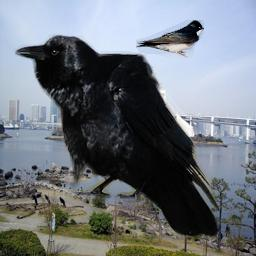Crow: (14, 34, 224, 241)
Swallow: (136, 20, 204, 58)
